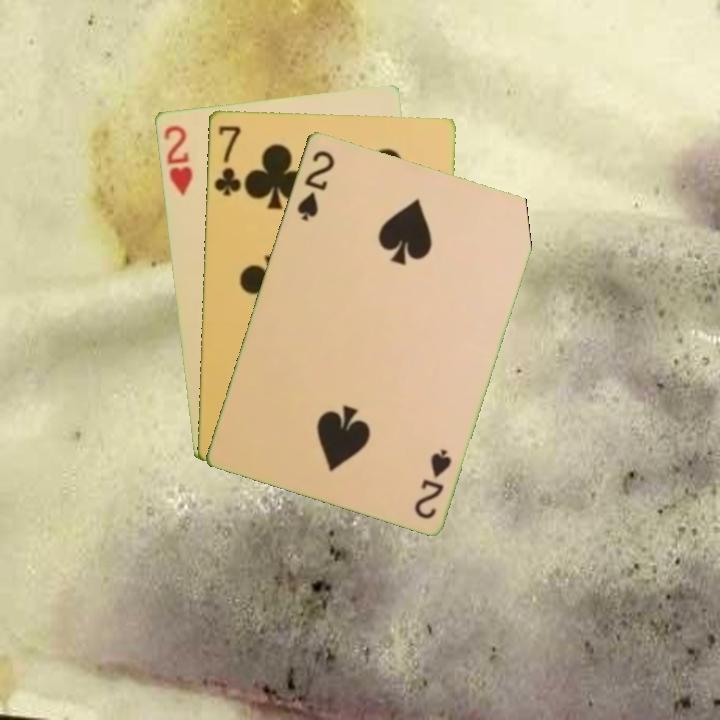2h: (159, 121, 196, 198)
2s: (410, 444, 455, 522), (293, 146, 337, 224)
7c: (210, 122, 244, 199)
